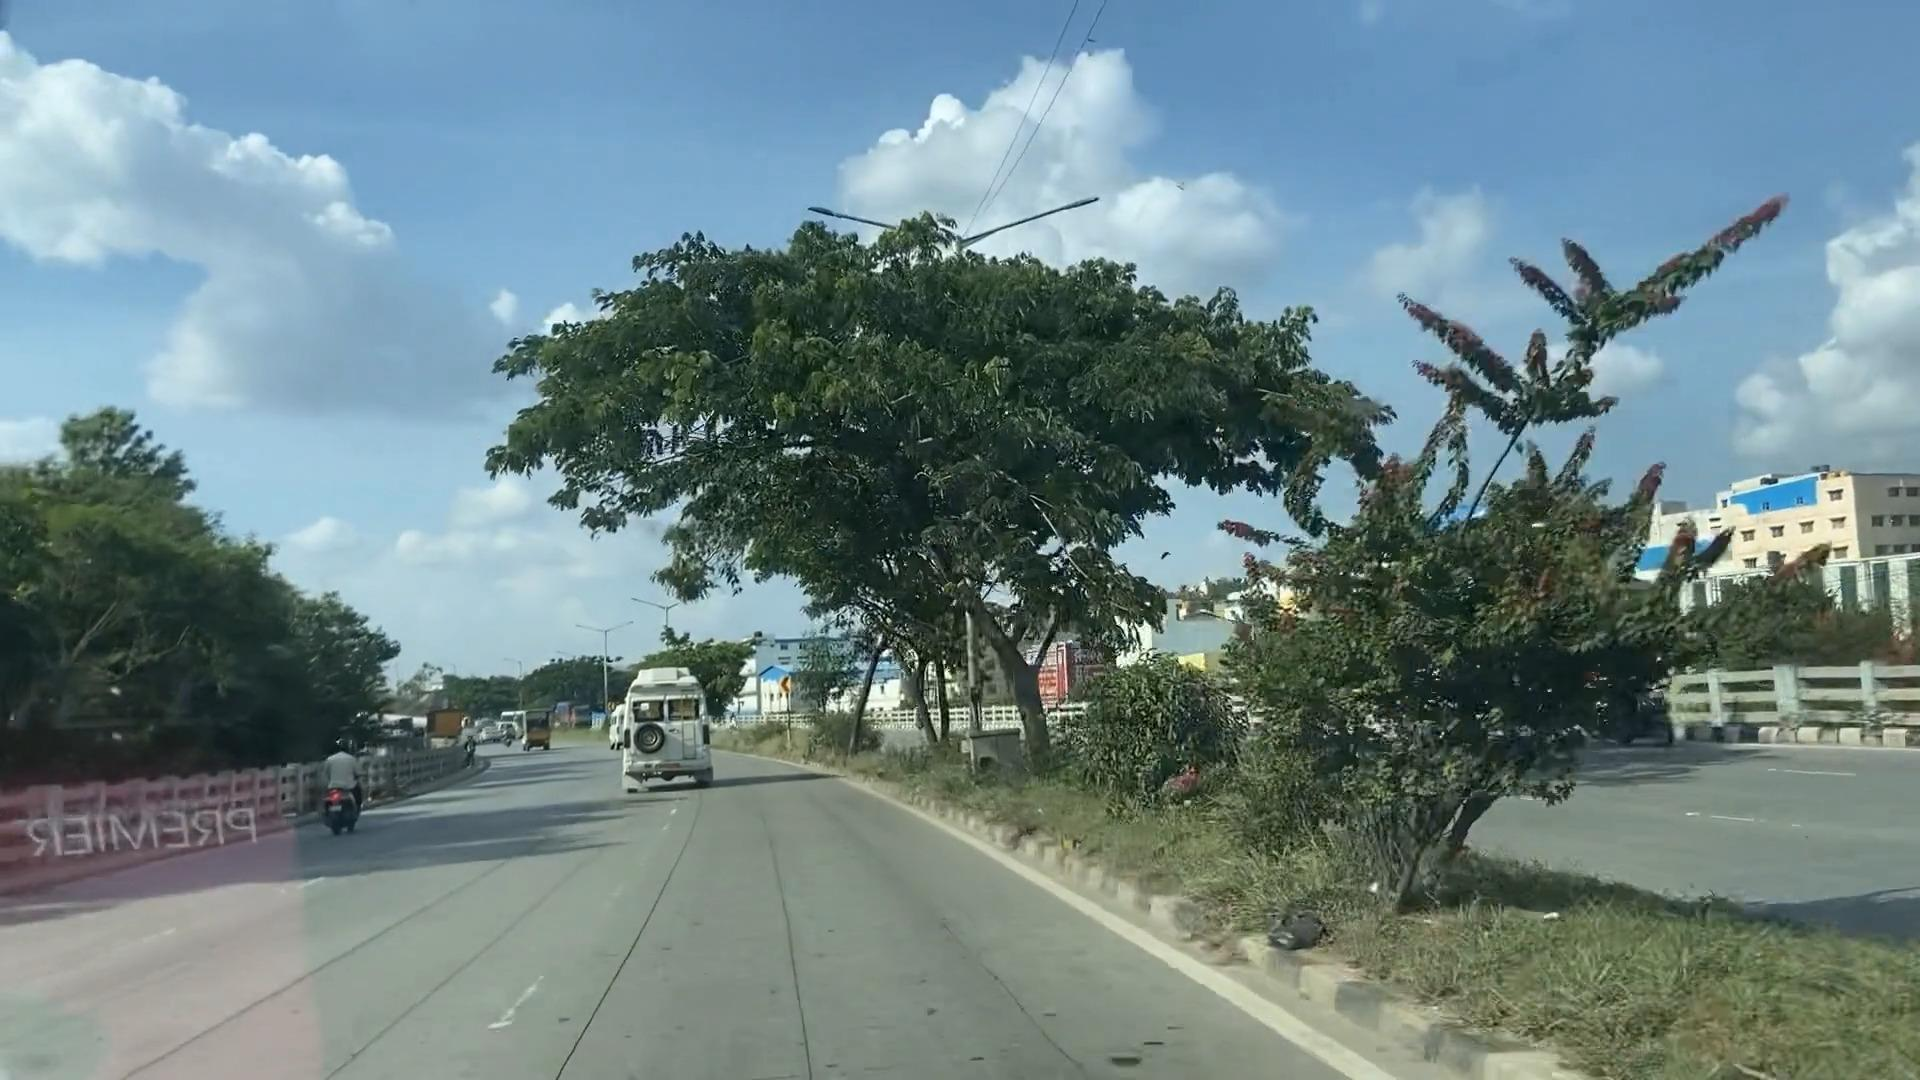HMV: (596, 649, 716, 785)
